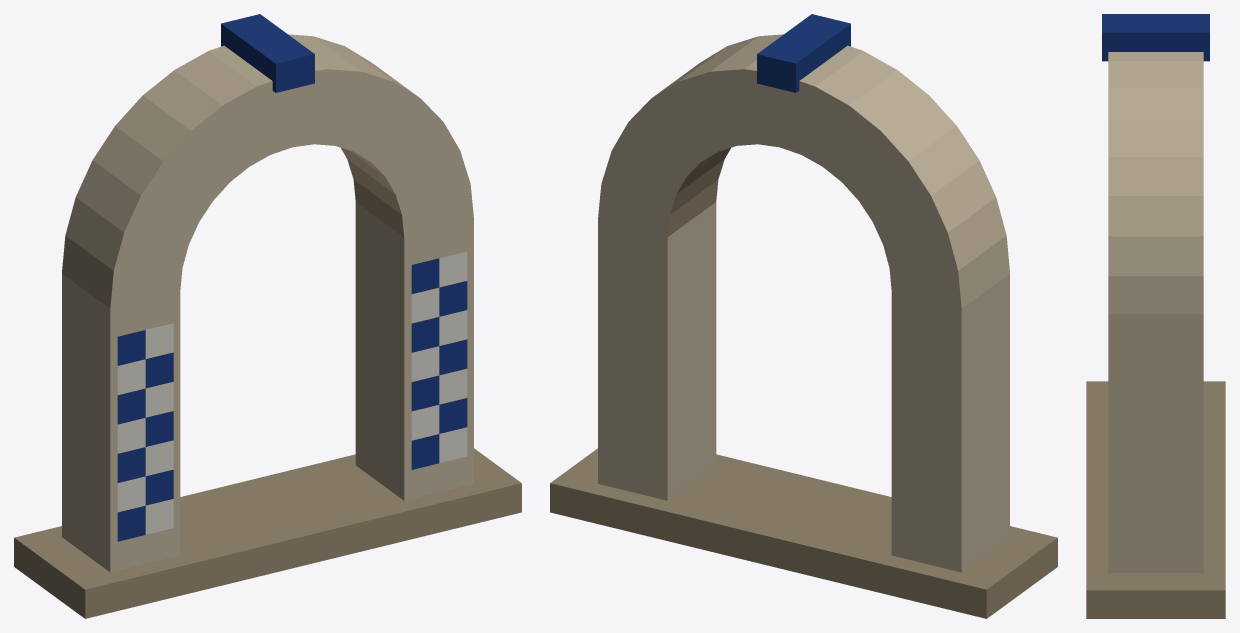
The model's file is azulejo_arch.glb.
3 views of the same model, side by side, from view 1: azimuth 30°, elevation 25°; view 2: azimuth 150°, elevation 25°; view 3: azimuth 270°, elevation 25° (orthographic).
Visible parts, largest first — view 1: azulejo_arch; view 2: azulejo_arch; view 3: azulejo_arch.
Boxes of the visible parts, <box> form: azulejo_arch: <box>14,14,521,618</box>; azulejo_arch: <box>550,14,1057,618</box>; azulejo_arch: <box>1086,14,1225,618</box>.
Size of the model in its own units: 1.56 by 1.71 by 0.44.
